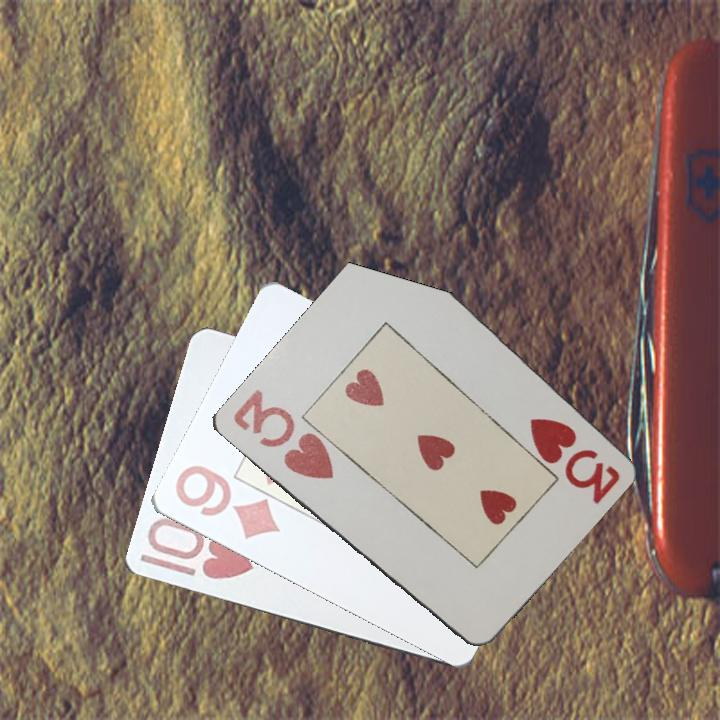3h: (228, 385, 338, 483), (525, 414, 623, 505)
9d: (170, 461, 283, 543)
Th: (142, 515, 257, 583)
